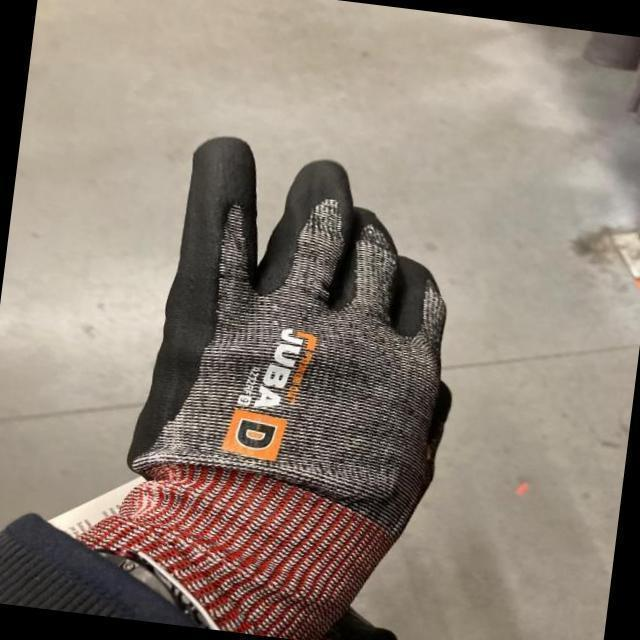gloved_hand: (77, 107, 491, 640)
